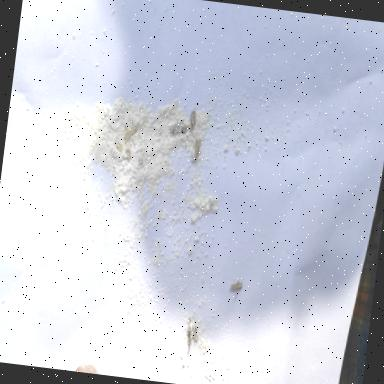pbw: (186, 314, 200, 352), (183, 318, 194, 352), (228, 278, 242, 298), (123, 122, 137, 141), (188, 106, 197, 131), (192, 136, 200, 158)
